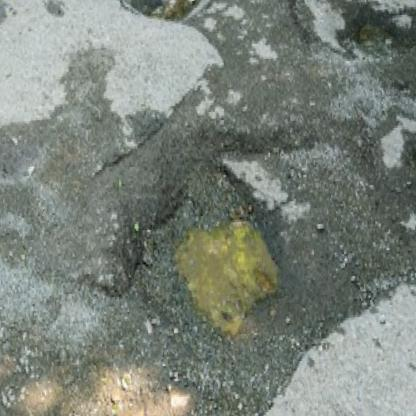pothole: (159, 181, 293, 344), (62, 356, 186, 416), (353, 7, 413, 64), (143, 0, 211, 23), (405, 125, 416, 177)
